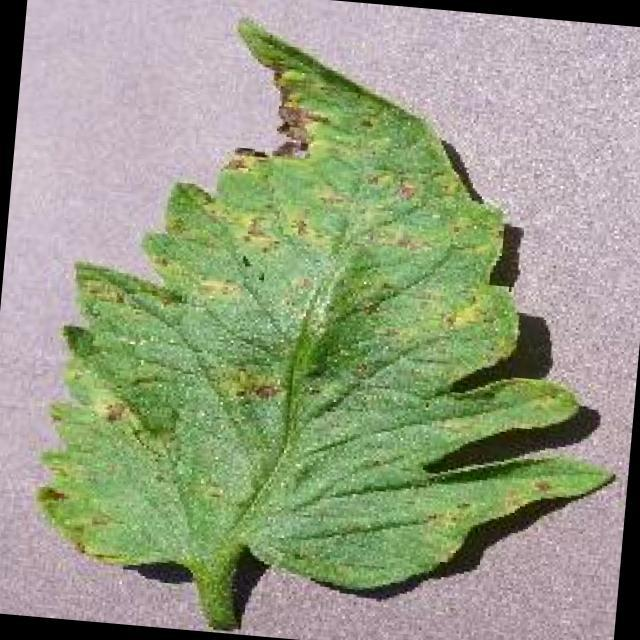Tomato Septoria spot leaf: (28, 1, 640, 614)
